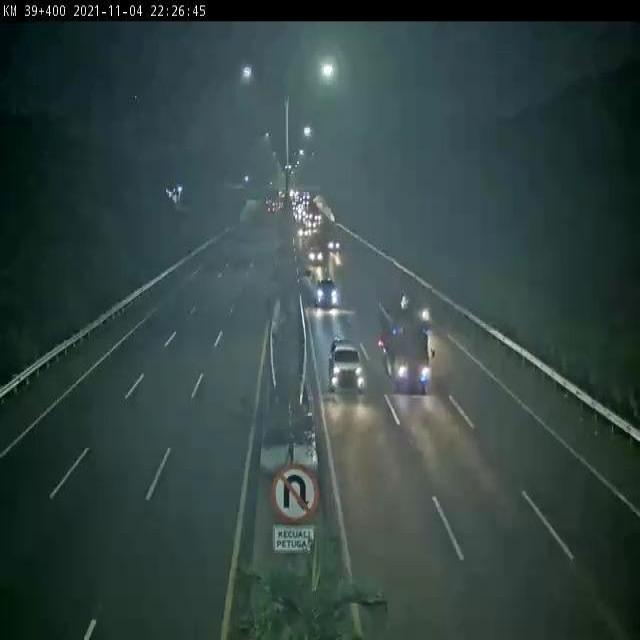car: (328, 334, 367, 394)
truck-m-: (375, 283, 436, 397)
